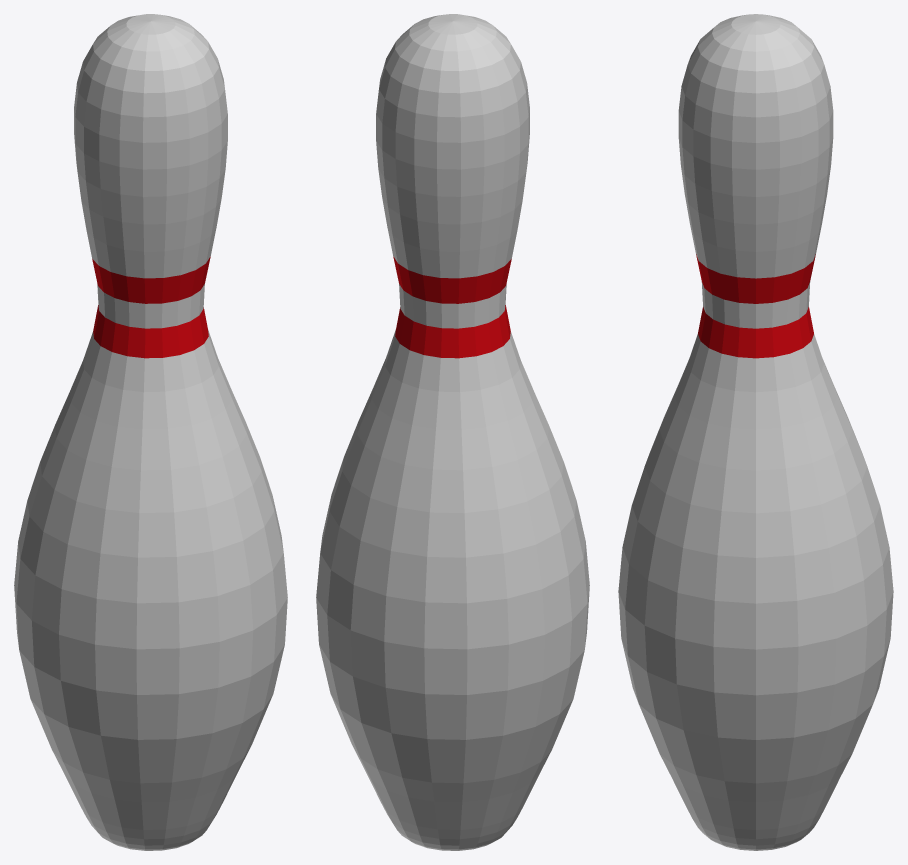
File: Pin.fbx
The picture shows the model from 3 angles, left to right: view 1: azimuth 30°, elevation 25°; view 2: azimuth 150°, elevation 25°; view 3: azimuth 270°, elevation 25°; orthographic projection.
Parts seen in each view (by area): view 1: Pin; view 2: Pin; view 3: Pin.
Boxes of the visible parts, bbox=[...] form: Pin: bbox=[14, 14, 287, 850]; Pin: bbox=[316, 14, 589, 850]; Pin: bbox=[618, 14, 893, 850].
Bounding box in the file's own units: 117 × 380 × 117.
